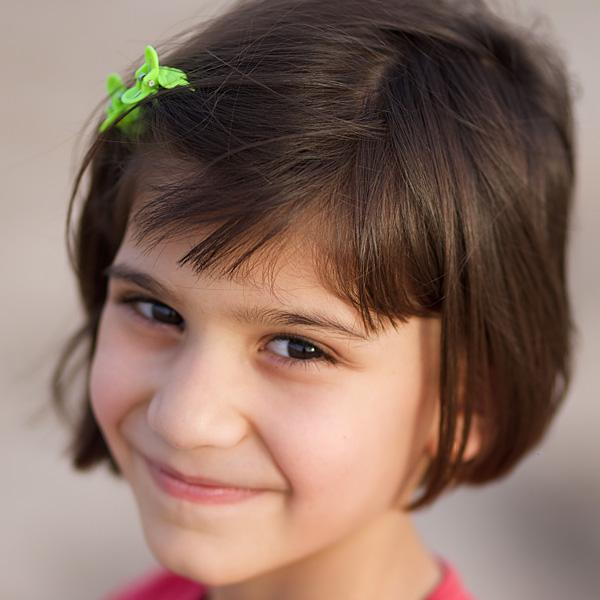Eyes: (243, 318, 358, 389), (109, 282, 199, 352)
